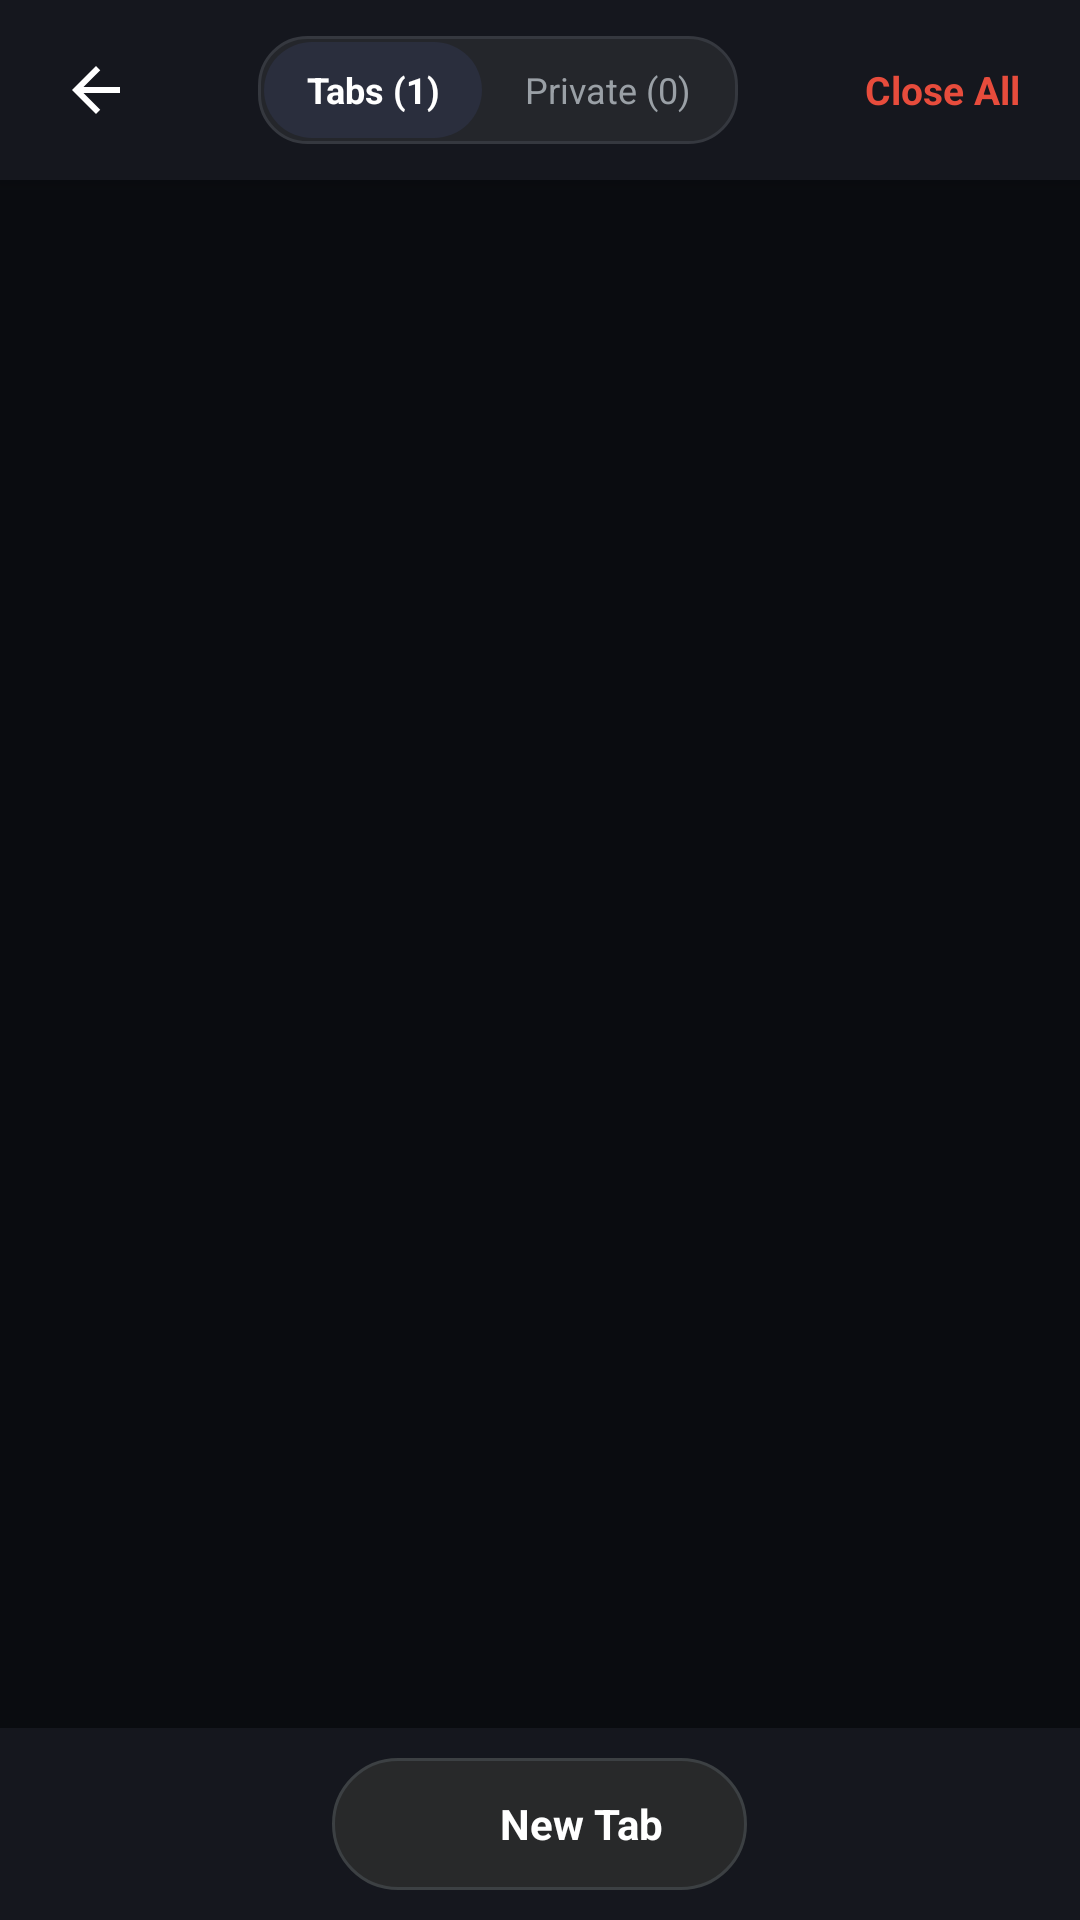

Screen size 1080x1920. Icon name, then its box in pixels as [x1=x1, y1=y1, x2=x2, y2=y2]:
Close Overview: [x1=72, y1=66, x2=120, y2=114]
